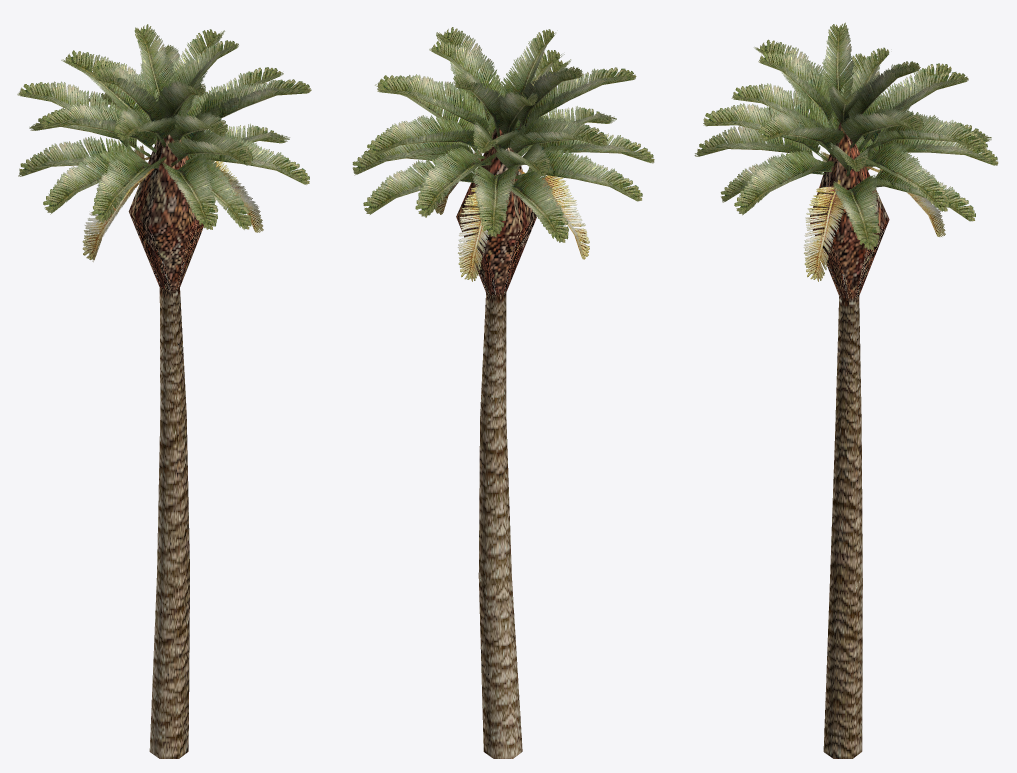
The model's file is palm.glb.
3 renders of one model, left to right at view 1: azimuth 30°, elevation 25°; view 2: azimuth 150°, elevation 25°; view 3: azimuth 270°, elevation 25°, orthographic.
Visible parts, largest first — view 1: palm_part0; view 2: palm_part0; view 3: palm_part0.
Part boxes in pixels (x1,y1,x2,y2): palm_part0: (17,24,311,758); palm_part0: (352,27,654,758); palm_part0: (694,22,998,758).
Size of the model in its own units: 1.6 by 4 by 1.62.
Materials: 1 (1 with a texture image).
